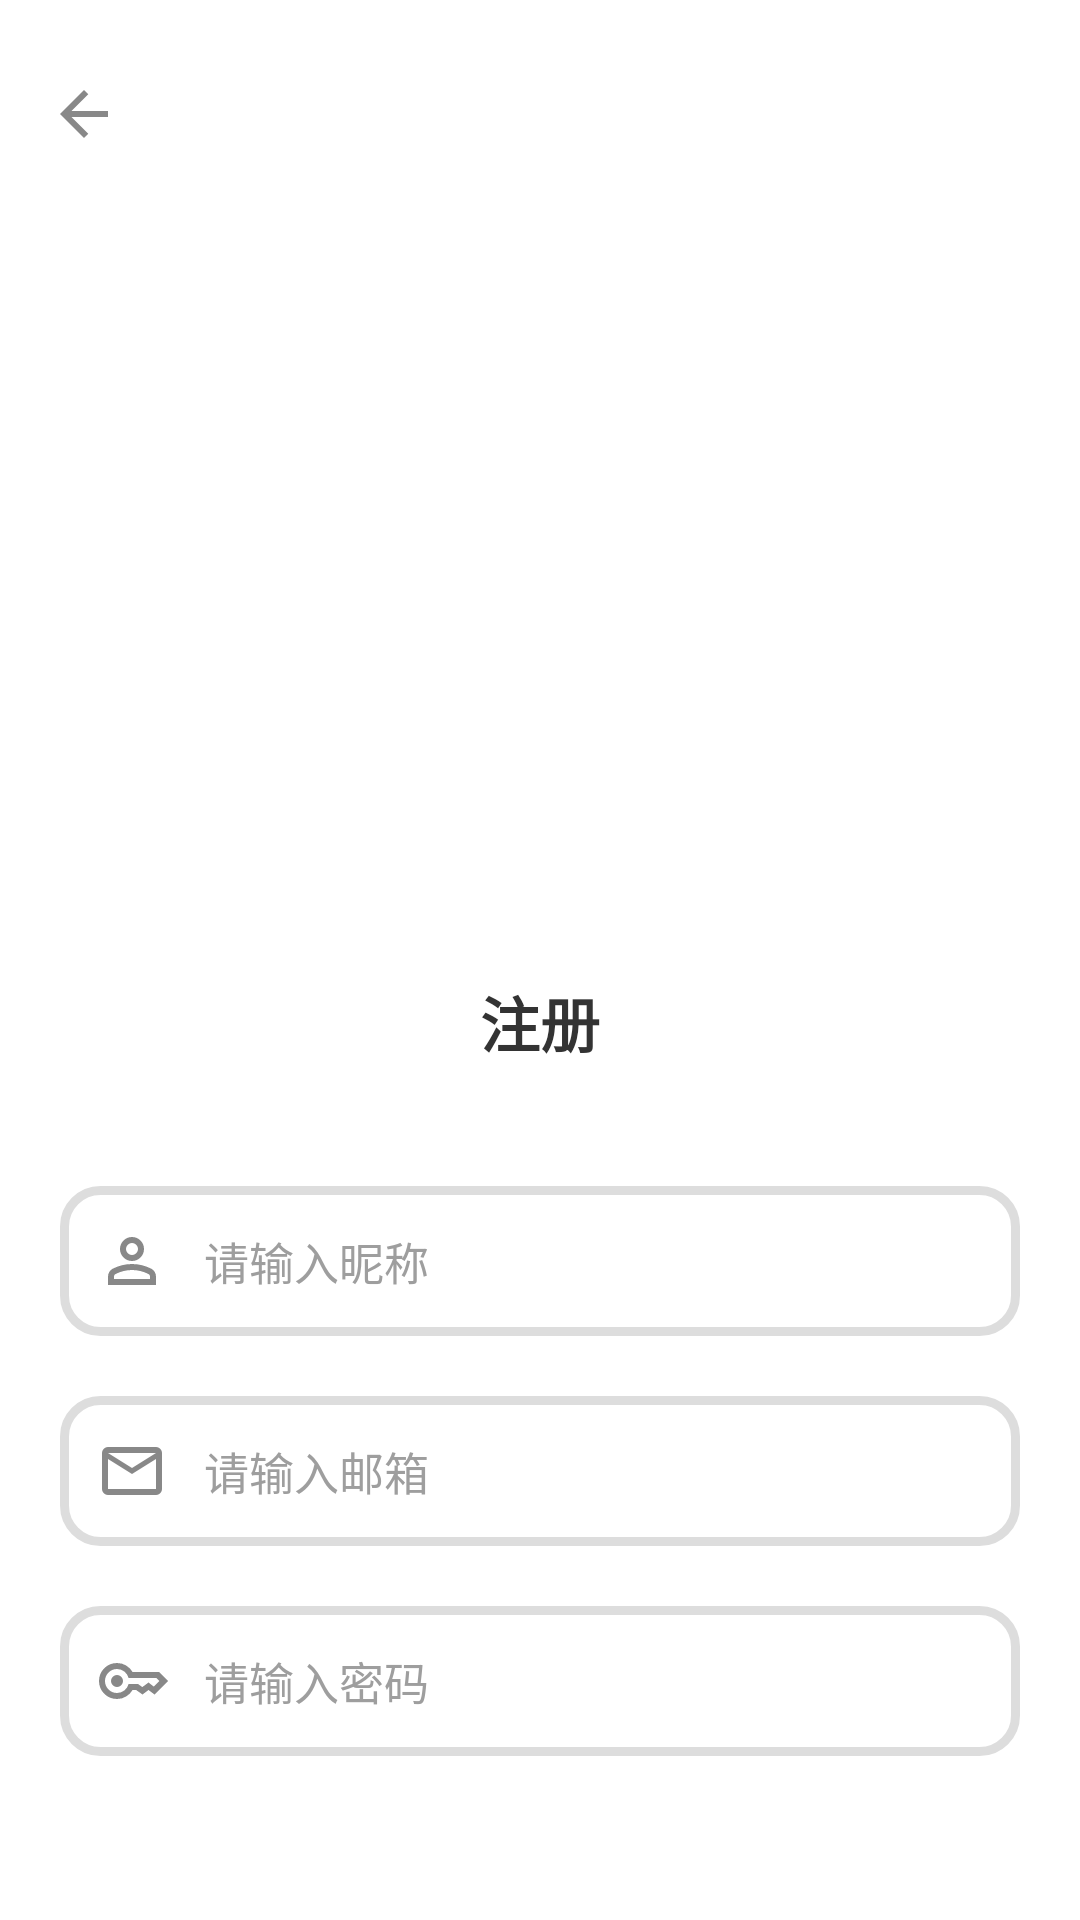

Icons on this 1080 x 1920 Android screen, each with its box as detection(x1, y1, x2, y2):
email: detection(102, 1447, 162, 1495)
nickname: detection(108, 1237, 156, 1285)
password: detection(99, 1663, 168, 1699)
